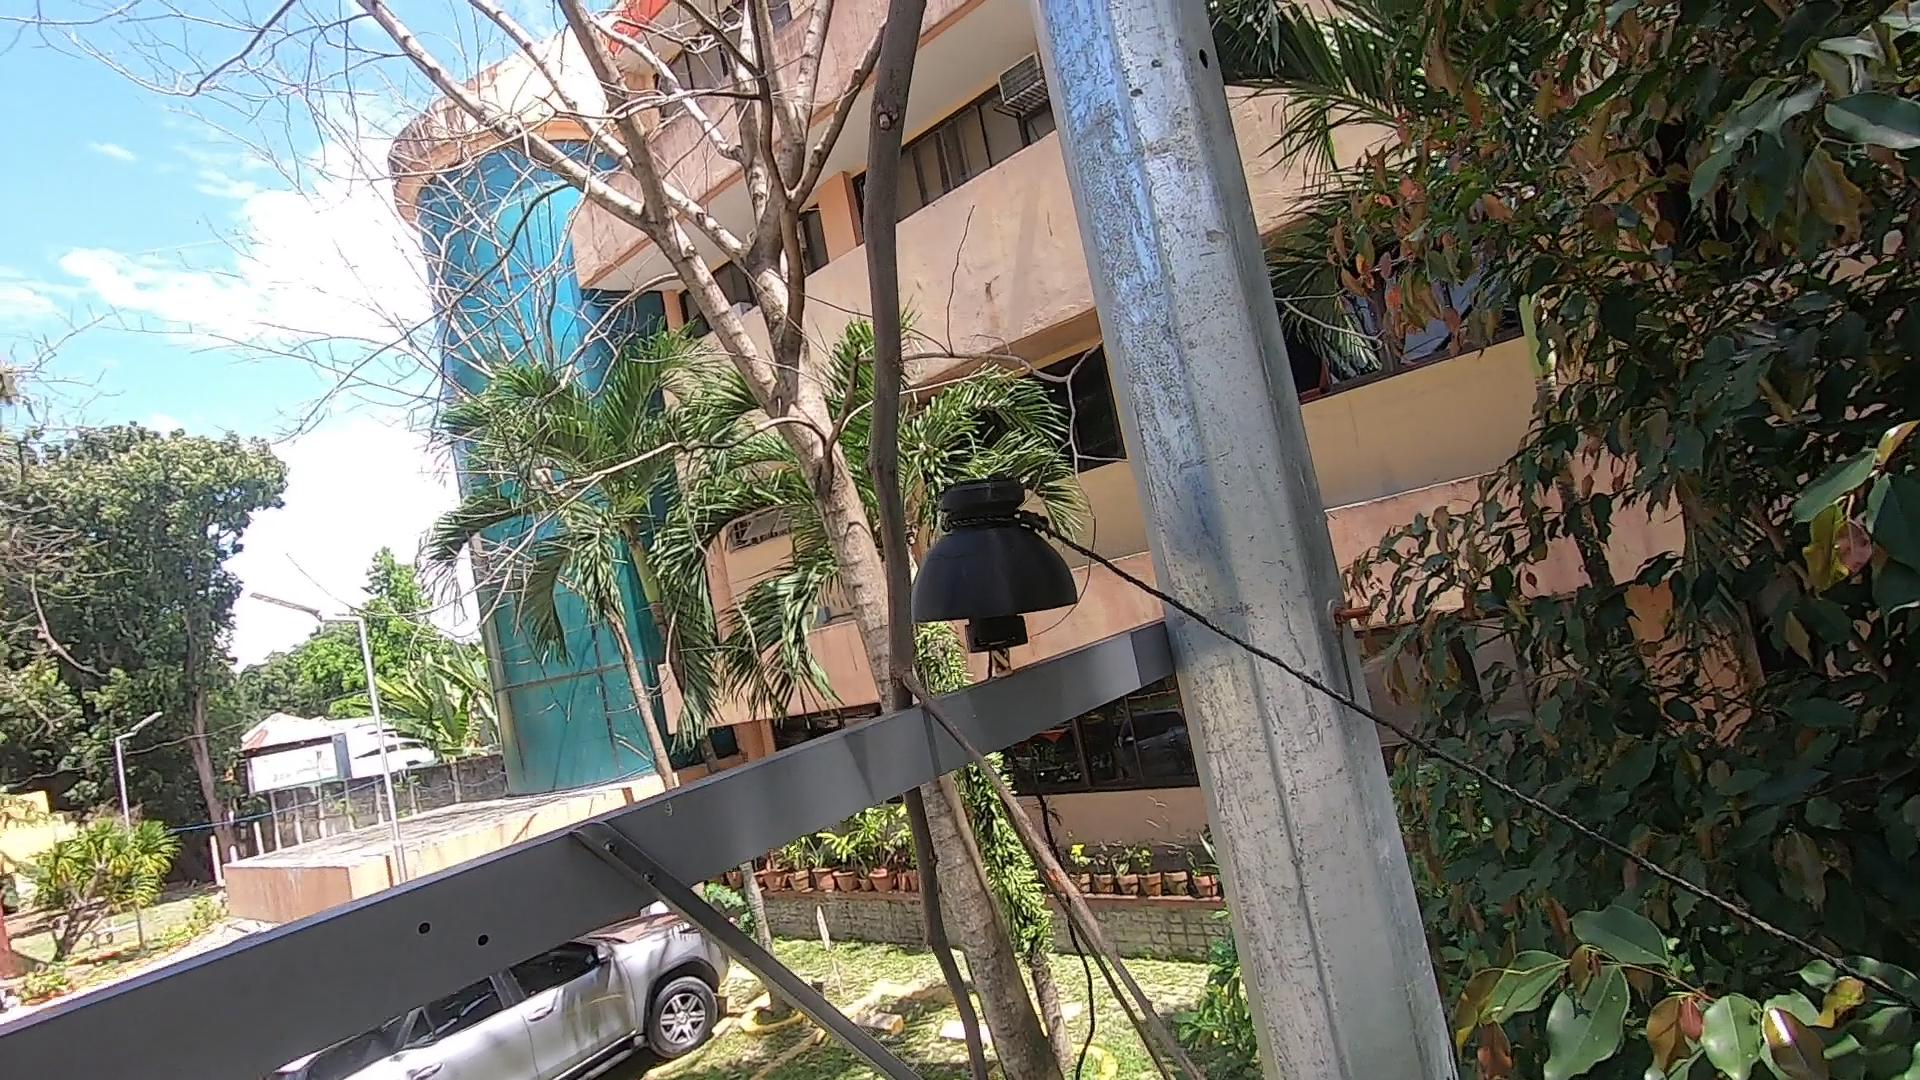tree branch: (806, 3, 1273, 1080)
